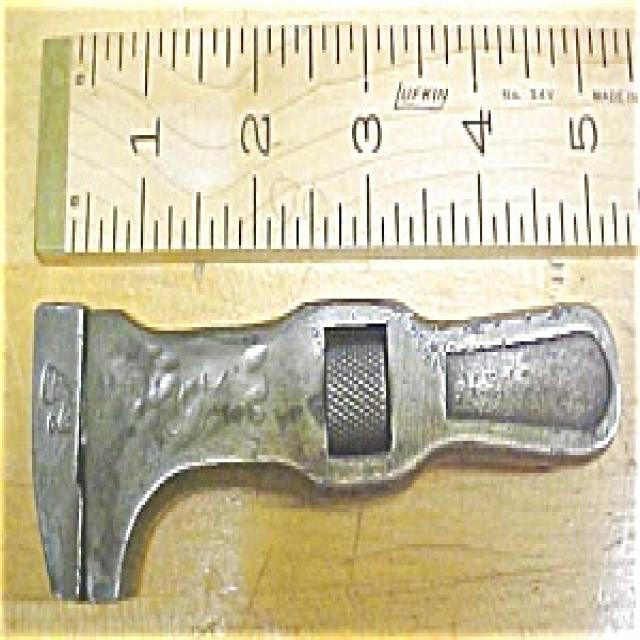Wrench: (21, 279, 630, 610)
